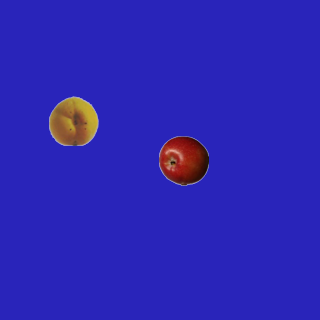Apple Braeburn: (158, 135, 208, 185)
Peach 2: (48, 95, 98, 145)
